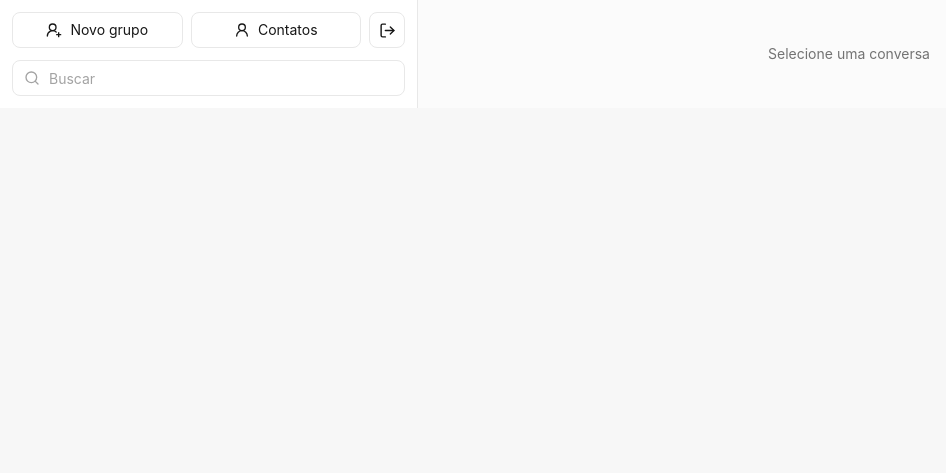
Test case: Inbox groups › validates the group name and contact selection before requesting creation
This screenshot has width=946, height=473.
Click the button "Novo grupo": click(97, 30) [12, 12, 182, 48]
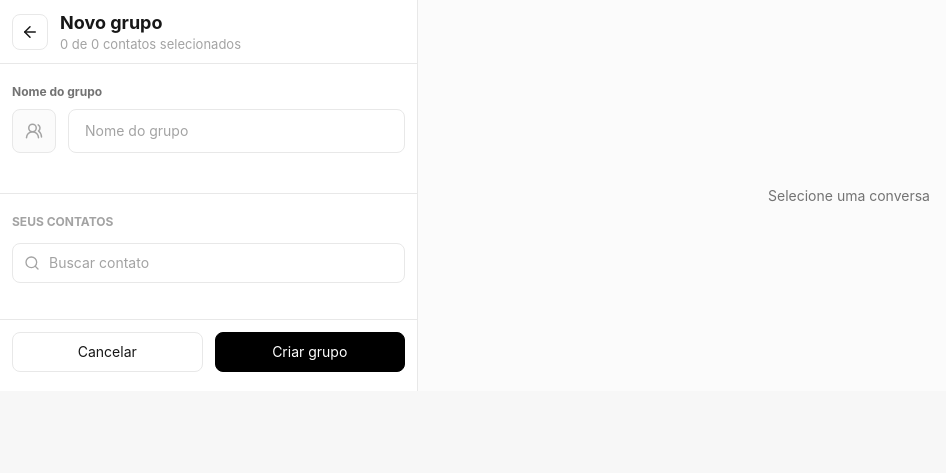
Click the button "Criar grupo": click(310, 352) [214, 332, 405, 372]
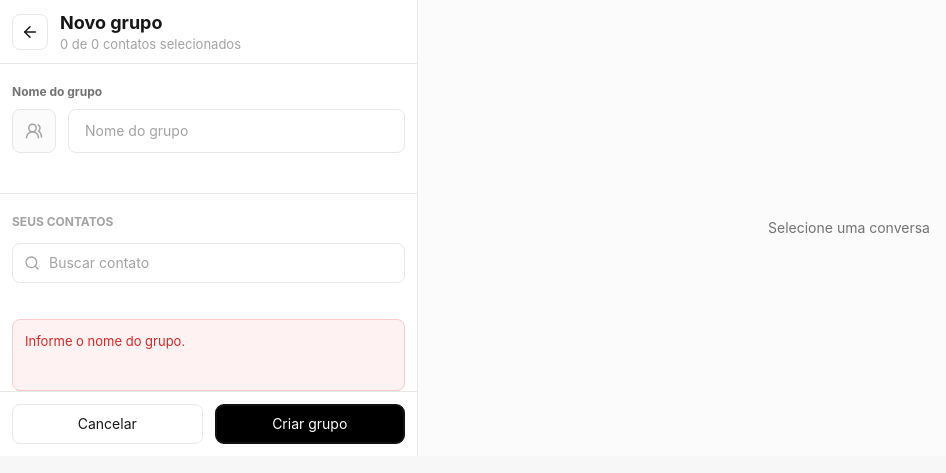
Now the message reads "Informe o nome do grupo.", box [25, 333, 185, 349]
In the field labelled "Nome do grupo": (236, 131) [68, 109, 405, 153], type "Time sem membros"
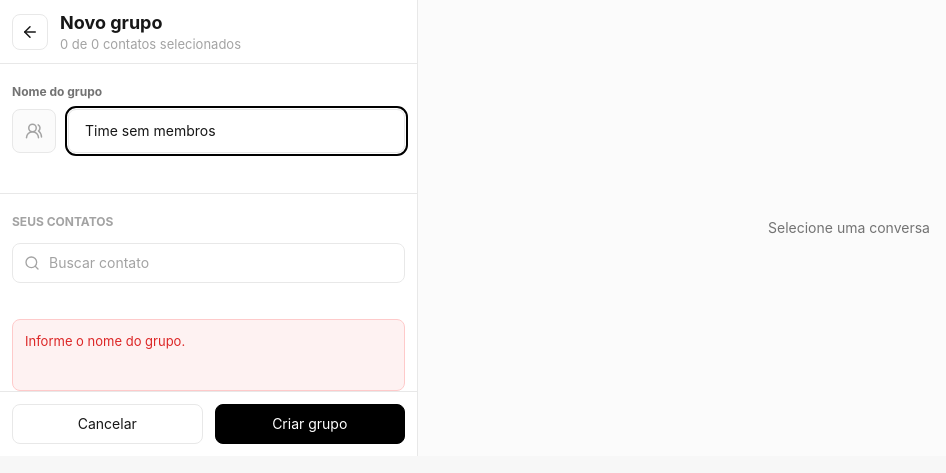
Click the button "Criar grupo": click(310, 424) [214, 404, 405, 444]
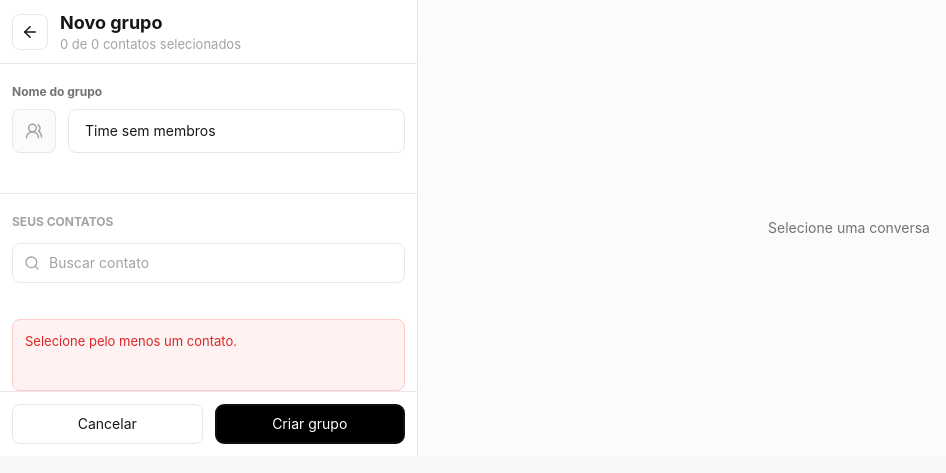
Now the message reads "Selecione pelo menos um contato.", box [25, 333, 237, 349]
